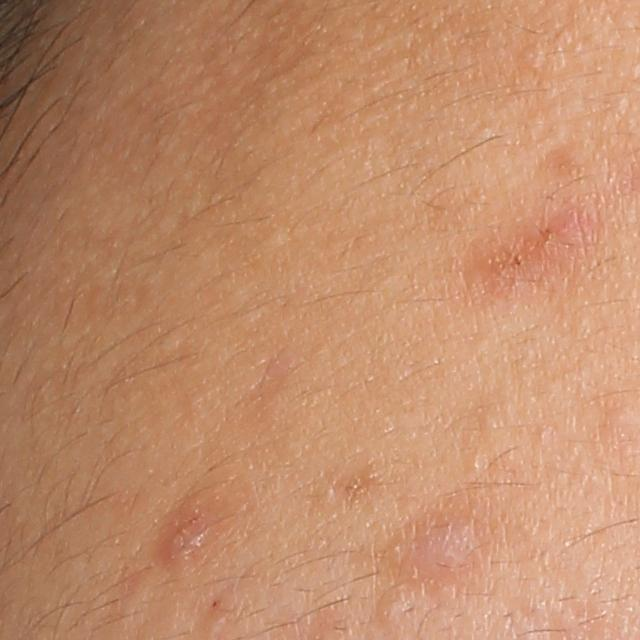comedo: (374, 597, 410, 625)
